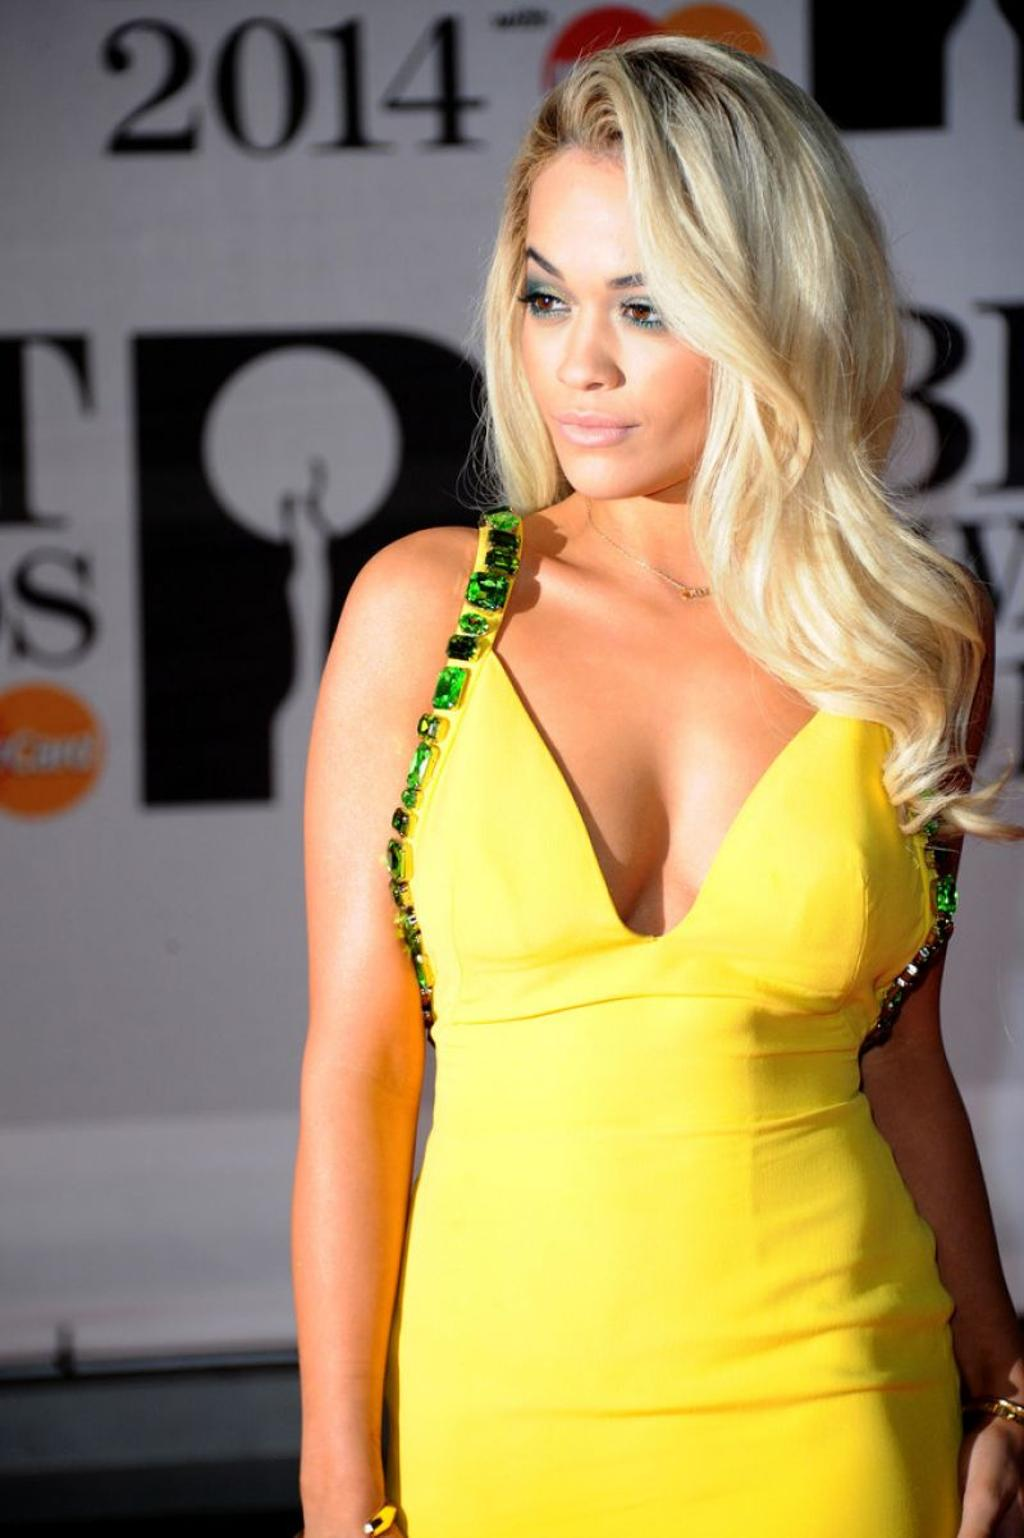face: (520, 138, 745, 498)
